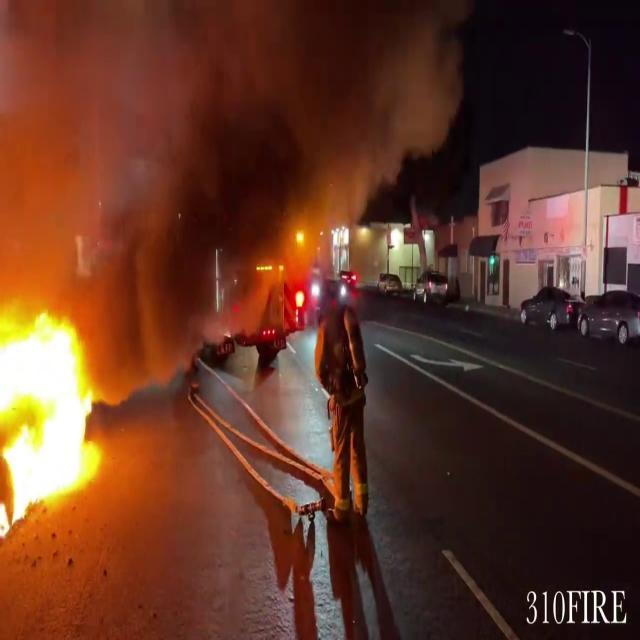Fire: (0, 303, 109, 531)
Smoke: (1, 0, 463, 330)
